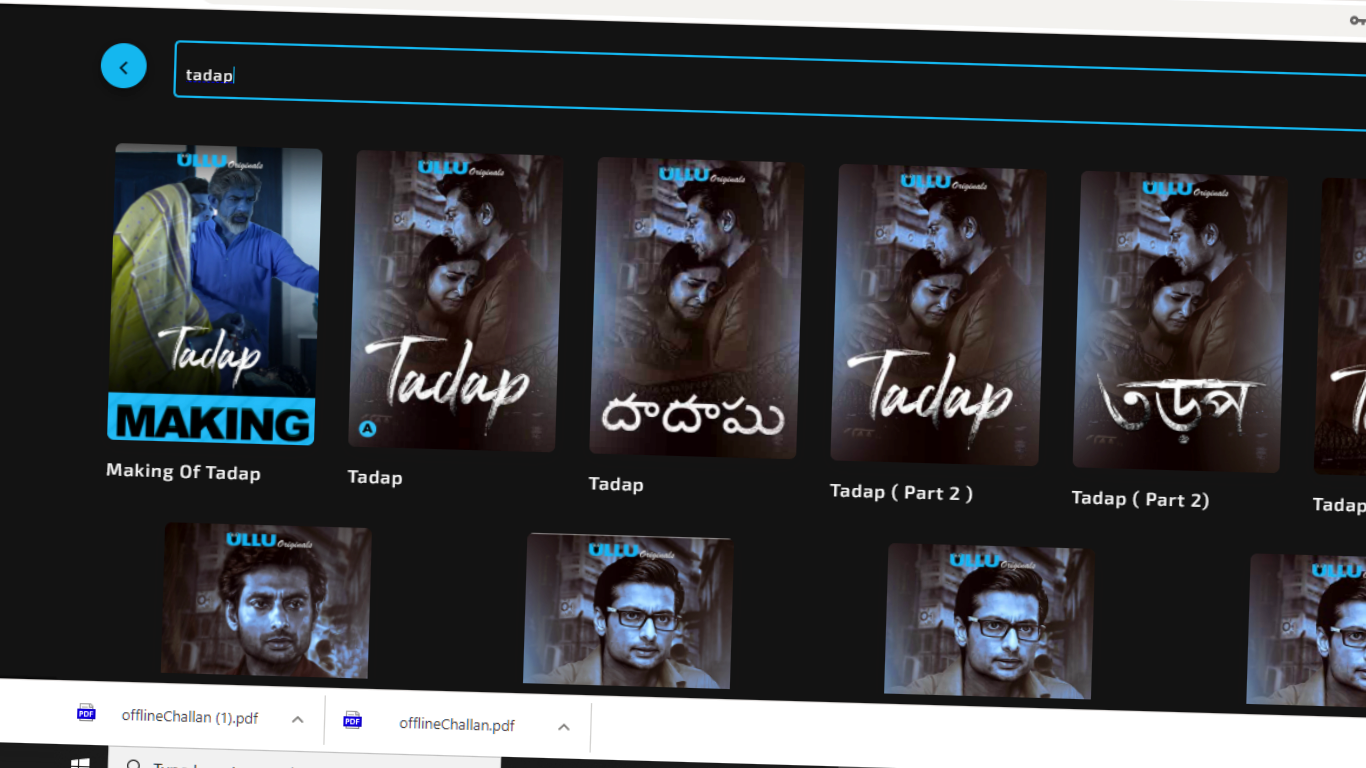backbutton: (79, 27, 159, 100)
searchtextbox: (156, 26, 1359, 133)
